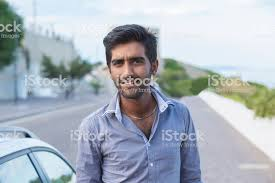Indian_Male: (105, 32, 140, 99)
